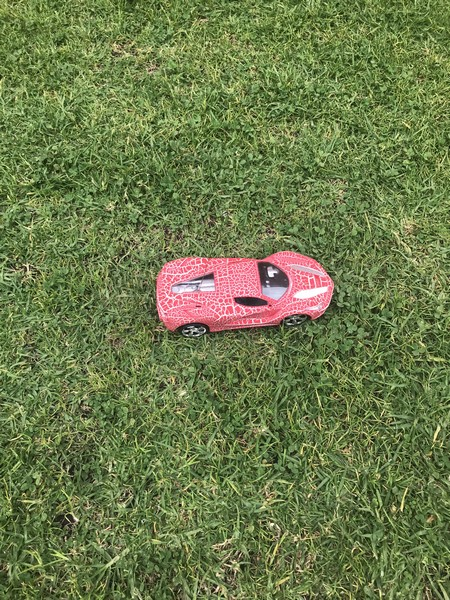RC: (154, 249, 337, 339)
